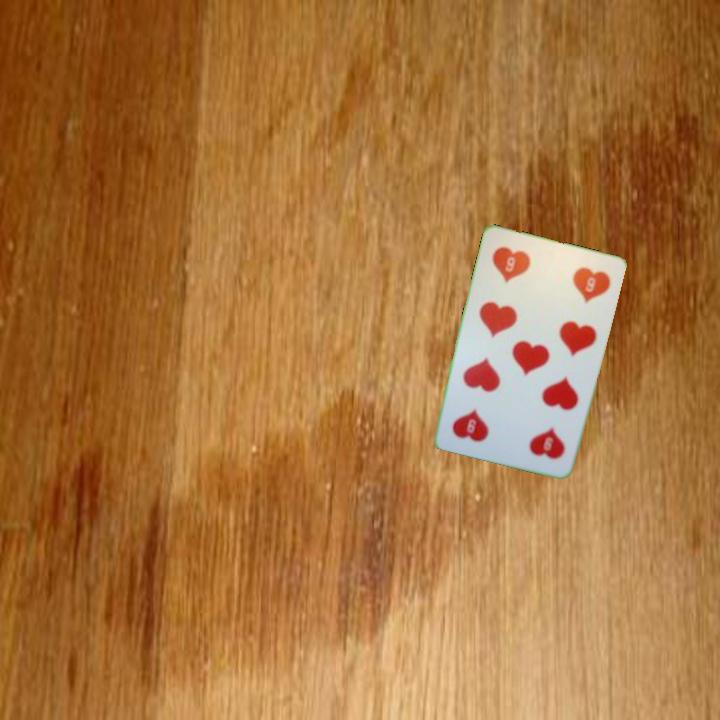h_9.png: (500, 398, 578, 470), (479, 235, 557, 306)
